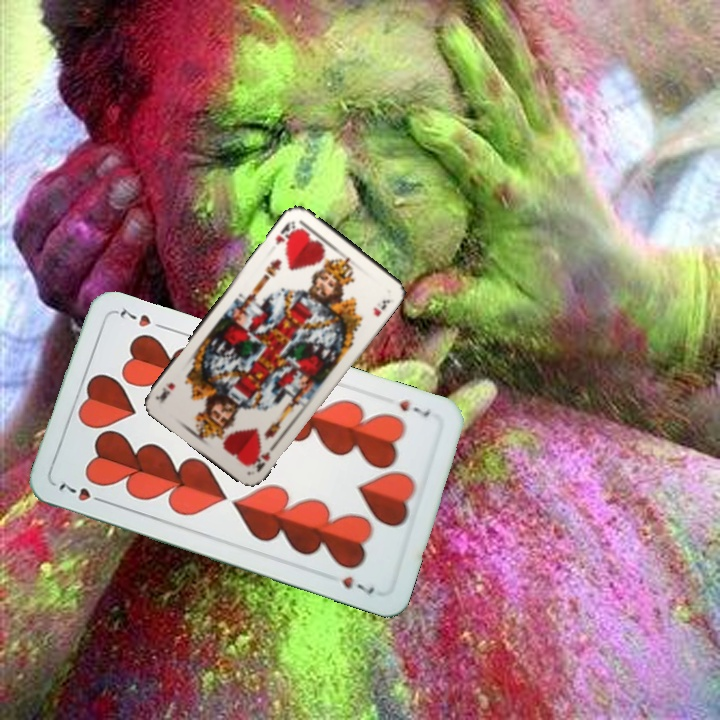H7: (54, 479, 109, 507), (395, 395, 433, 420)
HK: (249, 439, 279, 475), (271, 217, 300, 247)
